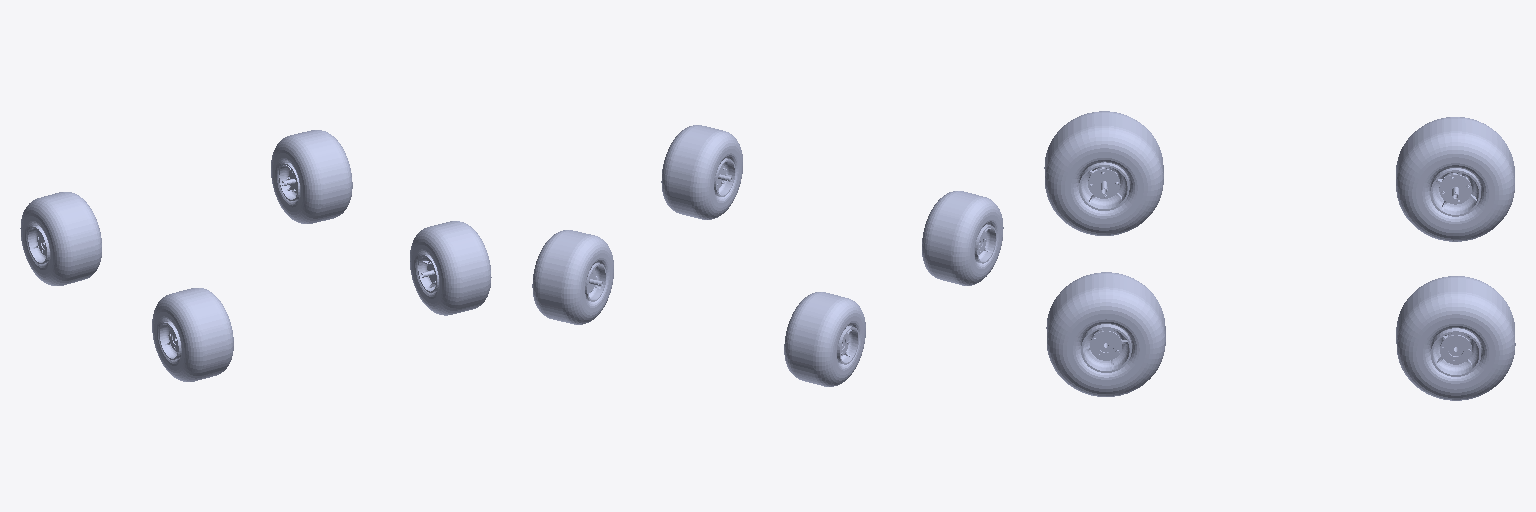
robot.urdf — r20_description:
<?xml version="1.0" encoding="utf-8"?>
<!-- This URDF was automatically created by SolidWorks to URDF Exporter! Originally created by [author] ([email redacted]) 
     Commit Version: 1.6.0-1-g15f4949  Build Version: 1.6.7594.29634
     For more information, please see http://wiki.ros.org/sw_urdf_exporter -->
<robot
  name="r20_description">
  <link
    name="base_link">
    <inertial>
      <origin
        xyz="0.0035491 0.32033 -0.16842"
        rpy="0 0 0" />
      <mass
        value="12.438" />
      <inertia
        ixx="2.3693"
        ixy="0.088648"
        ixz="-0.03872"
        iyy="3.2867"
        iyz="-0.031602"
        izz="2.1637" />
    </inertial>
    <visual>
      <origin
        xyz="0 0 0"
        rpy="0 0 0" />
      <geometry>
        <mesh
          filename="package://r20_description/meshes/base_link.STL" />
      </geometry>
      <material
        name="">
        <color
          rgba="0.79216 0.81961 0.93333 1" />
      </material>
    </visual>
    <collision>
      <origin
        xyz="0 0 0"
        rpy="0 0 0" />
      <geometry>
        <mesh
          filename="package://r20_description/meshes/base_link.STL" />
      </geometry>
    </collision>
  </link>
  <link
    name="wheel_front_right_link">
    <inertial>
      <origin
        xyz="0.396208700870725 0.144571844547815 0.35792710266045"
        rpy="0 0 0" />
      <mass
        value="12.438331682443" />
      <inertia
        ixx="2.16450503067602"
        ixy="0.0315308651206383"
        ixz="0.04212193998267"
        iyy="3.27832296207346"
        iyz="0.124187299153229"
        izz="2.37691630945375" />
    </inertial>
    <visual>
      <origin
        xyz="0 0 0"
        rpy="0 0 0" />
      <geometry>
        <mesh
          filename="package://r20_description/meshes/wheel_front_right_link.STL" />
      </geometry>
      <material
        name="">
        <color
          rgba="0.792156862745098 0.819607843137255 0.933333333333333 1" />
      </material>
    </visual>
    <collision>
      <origin
        xyz="0 0 0"
        rpy="0 0 0" />
      <geometry>
        <mesh
          filename="package://r20_description/meshes/wheel_front_right_link.STL" />
      </geometry>
    </collision>
  </link>
  <joint
    name="wheel_front_right_joint"
    type="continuous">
    <origin
      xyz="-0.35239 -0.22411 0.16152"
      rpy="1.5314 -0.00059618 1.5607" />
    <parent
      link="base_link" />
    <child
      link="wheel_front_right_link" />
    <axis
      xyz="0.015366 -0.020671 0.99967" />
  </joint>
  <link
    name="wheel_front_left_link">
    <inertial>
      <origin
        xyz="-0.283108473798885 0.295175307719044 0.40213785508857"
        rpy="0 0 0" />
      <mass
        value="12.438331682443" />
      <inertia
        ixx="2.34184597765328"
        ixy="0.410353827356801"
        ixz="0.00396982650561848"
        iyy="3.11141483980135"
        iyz="-0.0905413509477505"
        izz="2.36648348474859" />
    </inertial>
    <visual>
      <origin
        xyz="0 0 0"
        rpy="0 0 0" />
      <geometry>
        <mesh
          filename="package://r20_description/meshes/wheel_front_left_link.STL" />
      </geometry>
      <material
        name="">
        <color
          rgba="0.792156862745098 0.819607843137255 0.933333333333333 1" />
      </material>
    </visual>
    <collision>
      <origin
        xyz="0 0 0"
        rpy="0 0 0" />
      <geometry>
        <mesh
          filename="package://r20_description/meshes/wheel_front_left_link.STL" />
      </geometry>
    </collision>
  </link>
  <joint
    name="wheel_front_left_joint"
    type="continuous">
    <origin
      xyz="0.39763 -0.22026 0.16991"
      rpy="1.5614 -0.43857 -1.5845" />
    <parent
      link="base_link" />
    <child
      link="wheel_front_left_link" />
    <axis
      xyz="0.015366 -0.020671 -0.99967" />
  </joint>
  <link
    name="wheel_rear_left_link">
    <inertial>
      <origin
        xyz="0.496660443639475 0.156408718729597 0.37363042371979"
        rpy="0 0 0" />
      <mass
        value="12.438331682443" />
      <inertia
        ixx="2.16451065423992"
        ixy="-0.0333575258367668"
        ixz="0.0399219038571316"
        iyy="3.29135856048791"
        iyz="-0.0597099223677499"
        izz="2.36387508747538" />
    </inertial>
    <visual>
      <origin
        xyz="0 0 0"
        rpy="0 0 0" />
      <geometry>
        <mesh
          filename="package://r20_description/meshes/wheel_rear_left_link.STL" />
      </geometry>
      <material
        name="">
        <color
          rgba="0.792156862745098 0.819607843137255 0.933333333333333 1" />
      </material>
    </visual>
    <collision>
      <origin
        xyz="0 0 0"
        rpy="0 0 0" />
      <geometry>
        <mesh
          filename="package://r20_description/meshes/wheel_rear_left_link.STL" />
      </geometry>
    </collision>
  </link>
  <joint
    name="wheel_rear_left_joint"
    type="continuous">
    <origin
      xyz="0.37759 0.66092 0.15221"
      rpy="1.5398 -0.00041912 -1.5818" />
    <parent
      link="base_link" />
    <child
      link="wheel_rear_left_link" />
    <axis
      xyz="0.015366 -0.020671 -0.99967" />
  </joint>
  <link
    name="wheel_rear_right_link">
    <inertial>
      <origin
        xyz="0.238973617976979 0.457345236461402 0.356572040989878"
        rpy="0 0 0" />
      <mass
        value="12.438331682443" />
      <inertia
        ixx="3.25085474831488"
        ixy="-0.197665970086269"
        ixz="0.0854684526697235"
        iyy="2.19967449057884"
        iyz="-0.0549482989464778"
        izz="2.3692150633095" />
    </inertial>
    <visual>
      <origin
        xyz="0 0 0"
        rpy="0 0 0" />
      <geometry>
        <mesh
          filename="package://r20_description/meshes/wheel_rear_right_link.STL" />
      </geometry>
      <material
        name="">
        <color
          rgba="0.792156862745098 0.819607843137255 0.933333333333333 1" />
      </material>
    </visual>
    <collision>
      <origin
        xyz="0 0 0"
        rpy="0 0 0" />
      <geometry>
        <mesh
          filename="package://r20_description/meshes/wheel_rear_right_link.STL" />
      </geometry>
    </collision>
  </link>
  <joint
    name="wheel_rear_right_joint"
    type="continuous">
    <origin
      xyz="-0.34598 0.66096 0.15106"
      rpy="-1.5381 -1.4198 -1.6158" />
    <parent
      link="base_link" />
    <child
      link="wheel_rear_right_link" />
    <axis
      xyz="0.015366 -0.020671 0.99967" />
  </joint>
</robot>

--- What the picture shows (computed from the rendered views, not written in the file) ---
The picture shows the robot from 3 angles, left to right: view 1: azimuth 30°, elevation 25°; view 2: azimuth 150°, elevation 25°; view 3: azimuth 270°, elevation 25°; orthographic projection.
Robot: r20_description — 5 links, 4 joints (4 continuous); root link base_link; default pose: all joints at 0.
Links seen in each view (by area): view 1: wheel_rear_left_link, wheel_front_left_link, wheel_front_right_link, wheel_rear_right_link; view 2: wheel_rear_left_link, wheel_front_left_link, wheel_rear_right_link, wheel_front_right_link; view 3: wheel_rear_left_link, wheel_front_left_link, wheel_rear_right_link, wheel_front_right_link.
Boxes of the visible links, x1,y1,x2,y2 form: wheel_rear_left_link: (271, 130, 352, 223); wheel_front_left_link: (410, 221, 491, 315); wheel_front_right_link: (152, 288, 233, 381); wheel_rear_right_link: (20, 192, 101, 285); wheel_rear_left_link: (532, 230, 613, 324); wheel_front_left_link: (661, 125, 742, 219); wheel_rear_right_link: (784, 292, 865, 386); wheel_front_right_link: (922, 191, 1003, 285); wheel_rear_left_link: (1396, 276, 1515, 400); wheel_front_left_link: (1046, 272, 1165, 396); wheel_rear_right_link: (1396, 117, 1514, 241); wheel_front_right_link: (1044, 111, 1163, 235).
Bounding box of the posed robot: 1.17 × 1.19 × 0.323 m (x, y, z).
4 mesh visuals loaded from 5 distinct referenced files (4 binary STL); not drawn: 1 (reference not matched to a file when rendering).